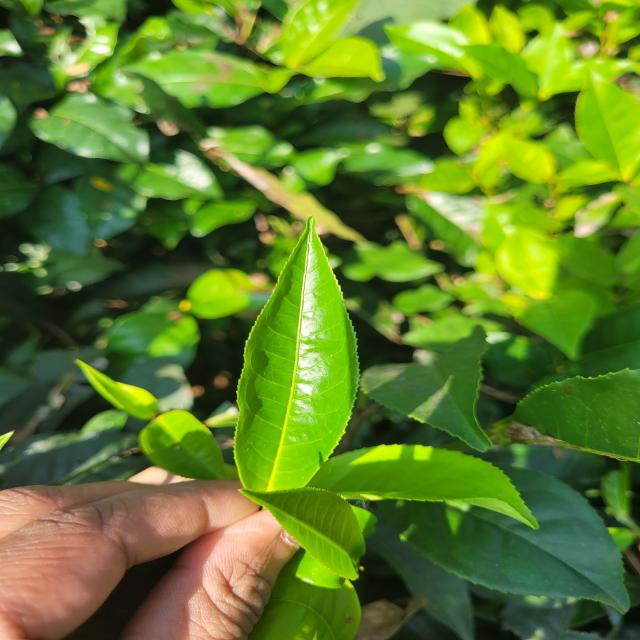Catagory A(1-2 days): (230, 205, 367, 501)
